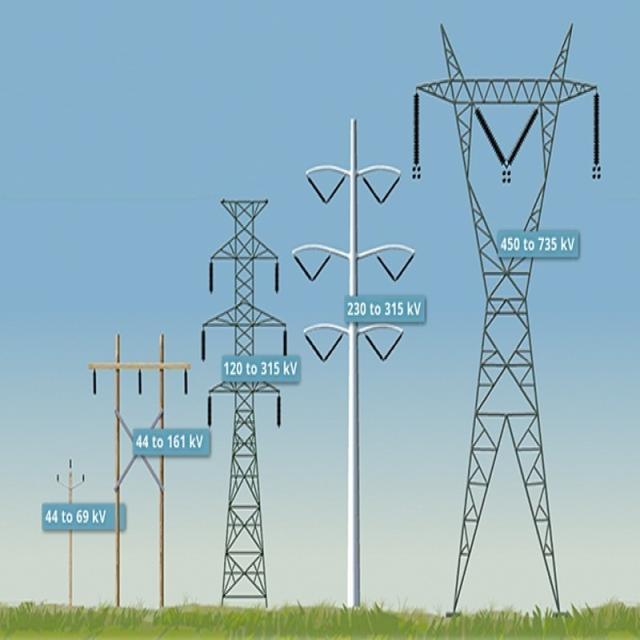non-critical vegetation: (420, 21, 614, 608), (302, 114, 404, 600), (213, 186, 281, 604)
